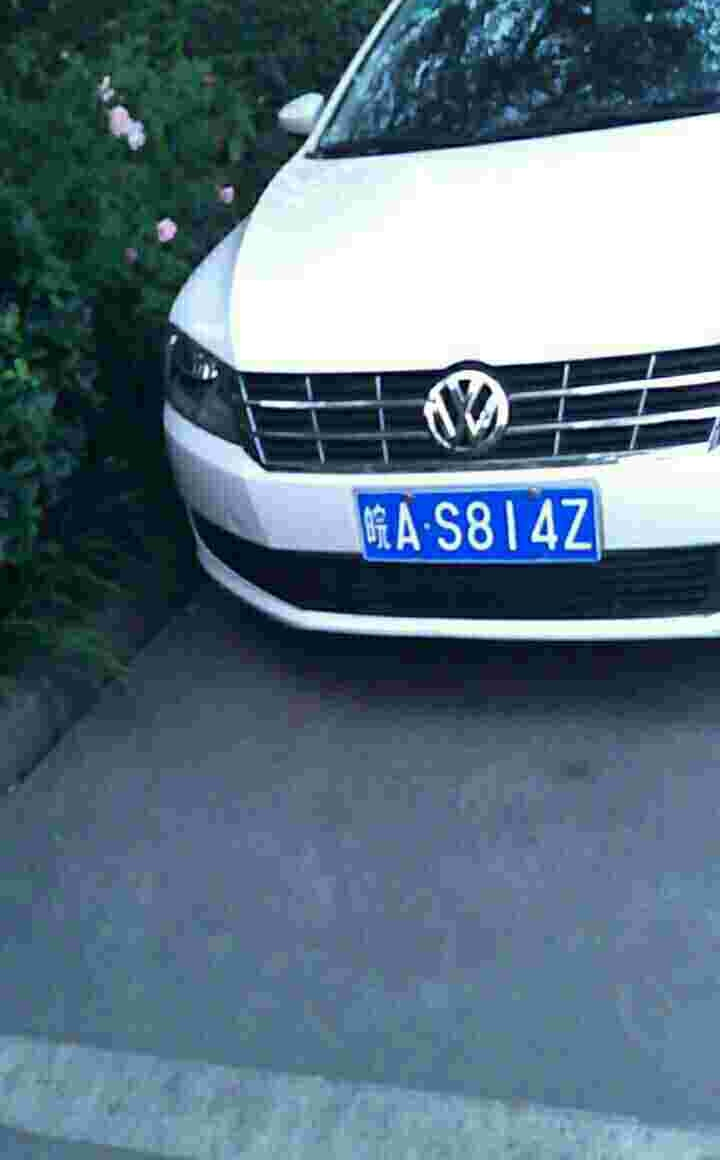plate: (354, 484, 603, 567)
